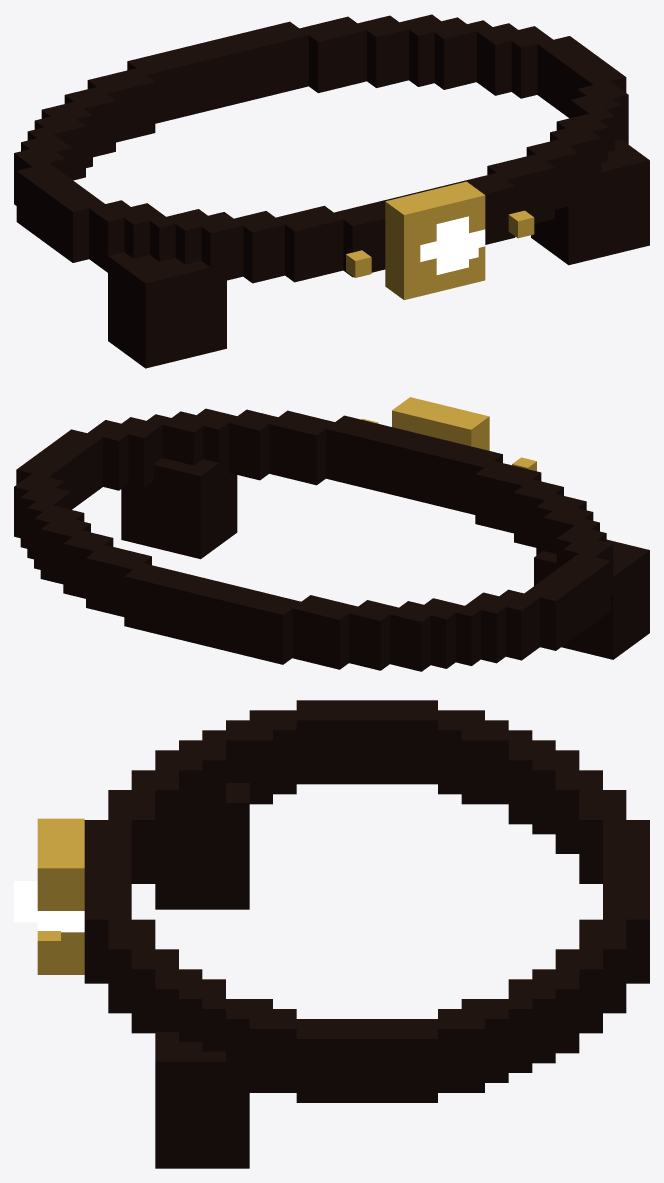
The model's file is leather_legendary_belt.glb.
3 renders of one model, top to bottom at view 1: azimuth 30°, elevation 25°; view 2: azimuth 150°, elevation 25°; view 3: azimuth 270°, elevation 25°, orthographic. The views are drawn at different scales.
Visible parts, largest first — view 1: leather_legendary_belt; view 2: leather_legendary_belt; view 3: leather_legendary_belt.
Boxes of the visible parts, x1=… form: leather_legendary_belt: x1=14, y1=14, x2=649, y2=368; leather_legendary_belt: x1=14, y1=397, x2=649, y2=671; leather_legendary_belt: x1=14, y1=700, x2=649, y2=1168.
Bounding box in the file's own units: 0.408 × 0.096 × 0.324.
